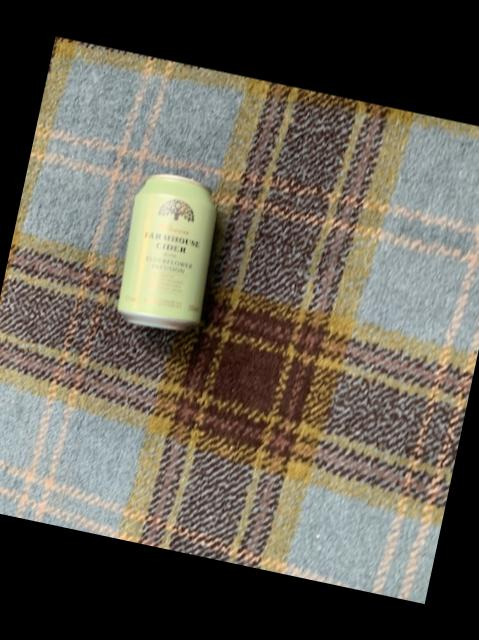metal: (115, 176, 213, 330)
